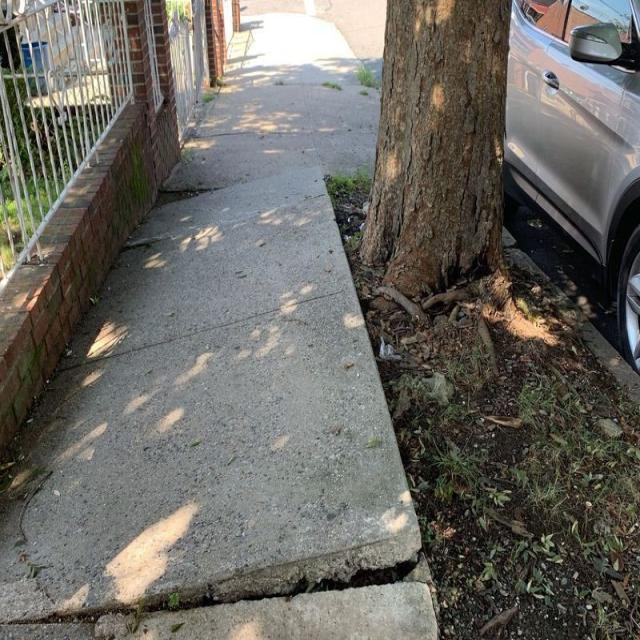hole: (148, 530, 450, 630), (164, 176, 228, 207)
